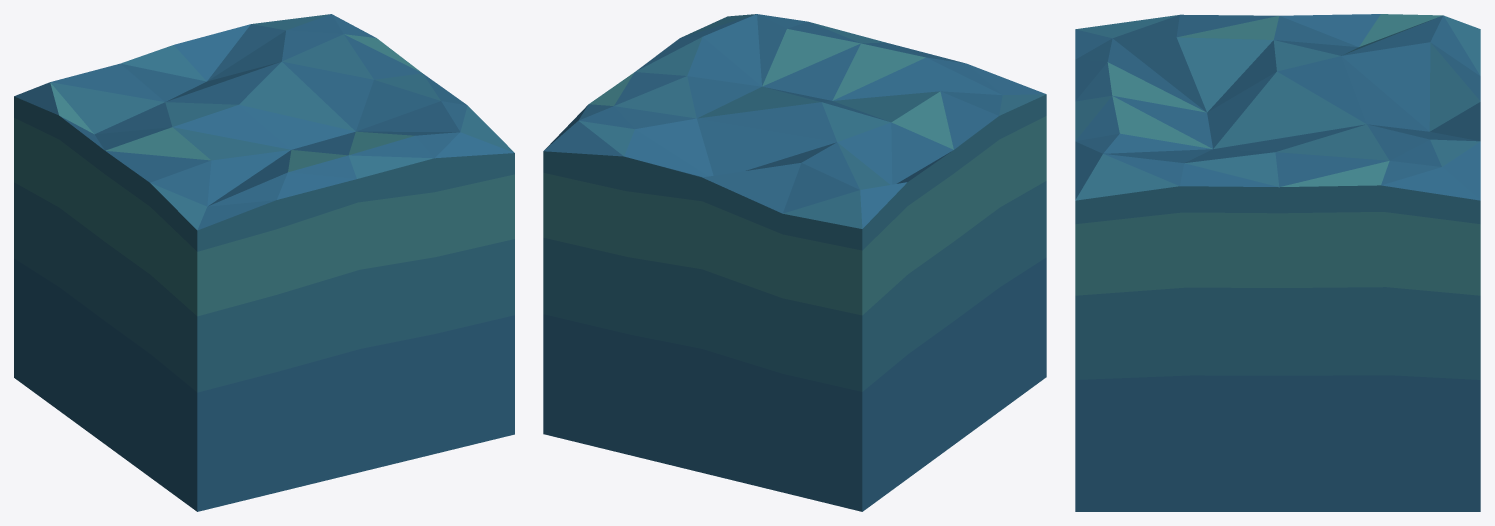
The model's file is Runestrife-Land-Water.fbx.
3 renders of one model, left to right at view 1: azimuth 30°, elevation 25°; view 2: azimuth 150°, elevation 25°; view 3: azimuth 270°, elevation 25°, orthographic. The views are drawn at different scales.
Parts seen in each view (by area): view 1: Cube; view 2: Cube; view 3: Cube.
Boxes of the visible parts, x1,y1,x2,y2 form: Cube: (14, 14, 514, 511); Cube: (543, 14, 1046, 511); Cube: (1075, 14, 1480, 511).
Size of the model in its own units: 300 by 280 by 300.
